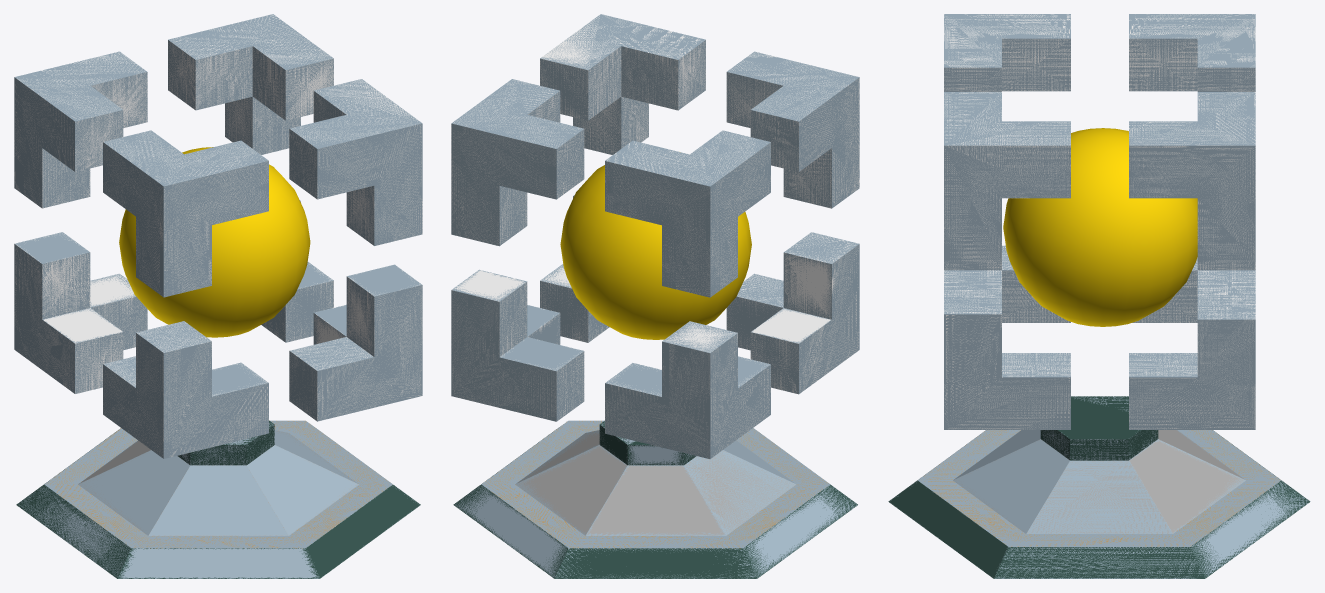
File: Receiver.fbx
3 renders of one model, left to right at view 1: azimuth 30°, elevation 25°; view 2: azimuth 150°, elevation 25°; view 3: azimuth 270°, elevation 25°, orthographic. The views are drawn at different scales.
Parts seen in each view (by area): view 1: Receiver1, Sphere1; view 2: Receiver1, Sphere1; view 3: Receiver1, Sphere1.
Part boxes in pixels (<box>): Receiver1: <box>14,14,422,578</box>; Sphere1: <box>119,147,310,337</box>; Receiver1: <box>451,14,859,578</box>; Sphere1: <box>560,165,751,339</box>; Receiver1: <box>888,14,1310,578</box>; Sphere1: <box>1003,128,1197,326</box>.
Size of the model in its own units: 0.6235 by 0.7932 by 0.72.
